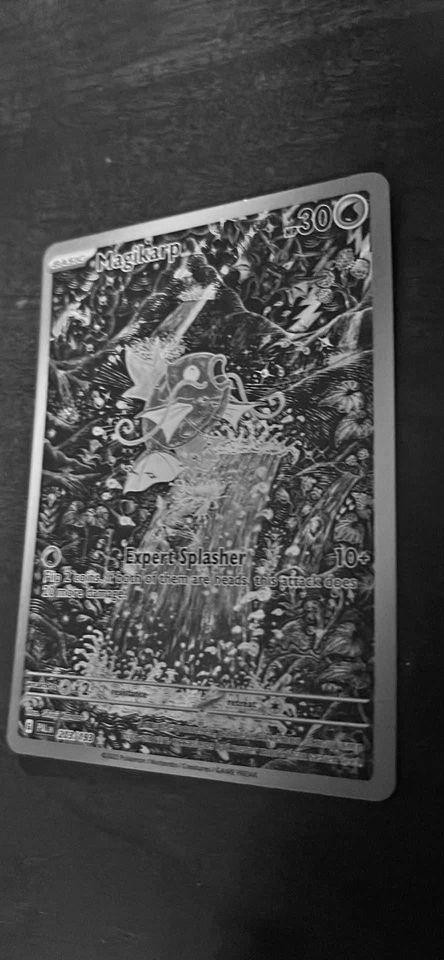card: (5, 171, 397, 803)
